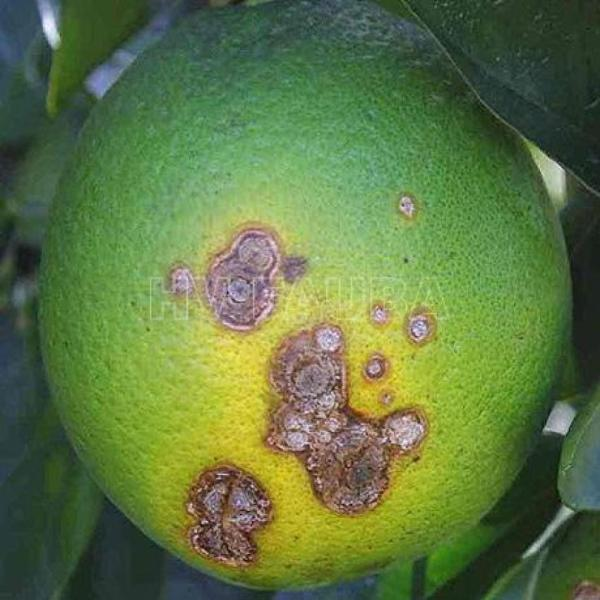Trips: (32, 0, 562, 593)
